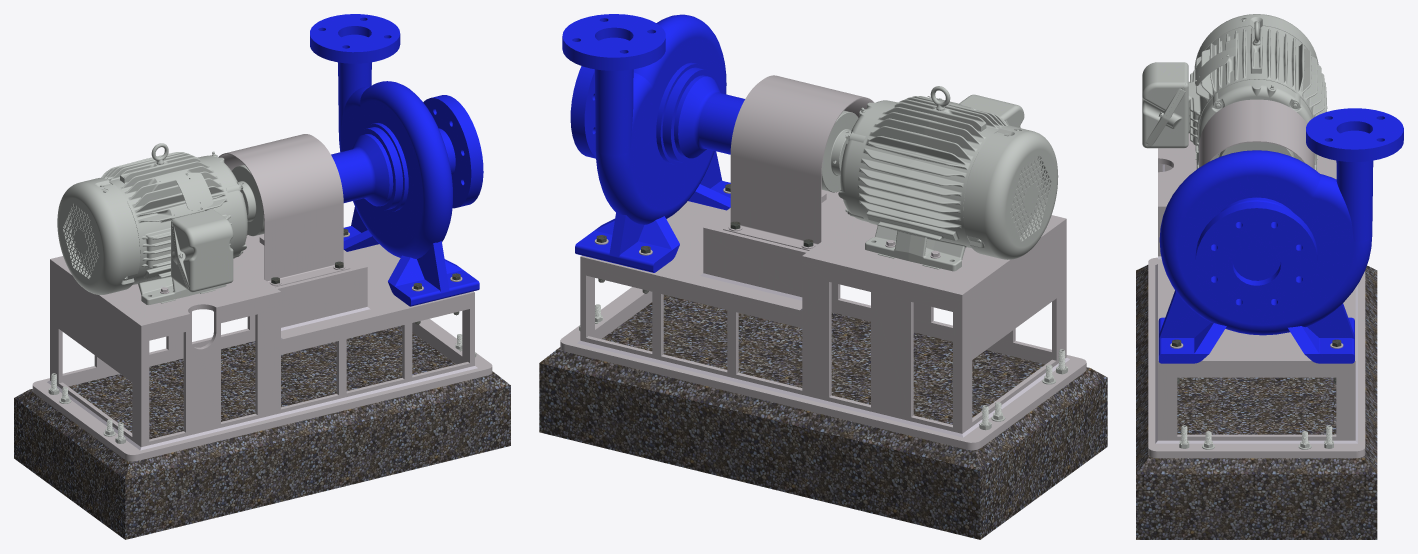
File: pump-base.glb
3 renders of one model, left to right at view 1: azimuth 30°, elevation 25°; view 2: azimuth 150°, elevation 25°; view 3: azimuth 270°, elevation 25°, orthographic. The views are drawn at different scales.
Parts seen in each view (by area): view 1: Solid1 (×2), Weld; view 2: Solid1 (×2), Weld; view 3: Solid1 (×2), Weld.
Boxes of the visible parts, left/top/right/bottom form: Solid1 (×2): left=14, top=14, right=510, bottom=539; Weld: left=47, top=307, right=477, bottom=450; Solid1 (×2): left=539, top=14, right=1107, bottom=539; Weld: left=577, top=273, right=1069, bottom=437; Solid1 (×2): left=1136, top=14, right=1403, bottom=539; Weld: left=1155, top=164, right=1357, bottom=443.
Bounding box in the file's own units: 1 × 0.8733 × 0.5548.
Materials: 4 (4 with a texture image).
